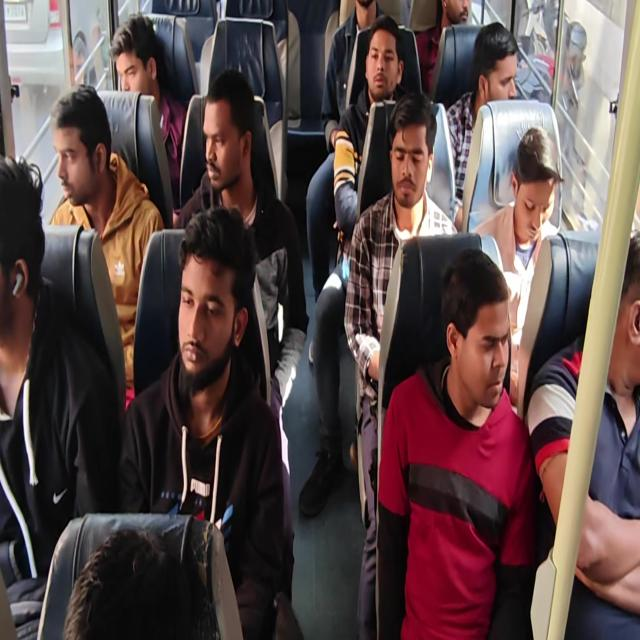person: (1, 2, 638, 638), (116, 204, 286, 638), (173, 68, 308, 605), (343, 91, 459, 637), (376, 247, 537, 638), (0, 153, 123, 638), (298, 14, 409, 518), (526, 230, 640, 638), (48, 84, 165, 410), (471, 125, 565, 405), (306, 0, 384, 301), (62, 525, 220, 639), (332, 14, 408, 240), (108, 12, 187, 209), (445, 21, 519, 230), (320, 0, 384, 154), (552, 19, 589, 222), (410, 0, 471, 99)
